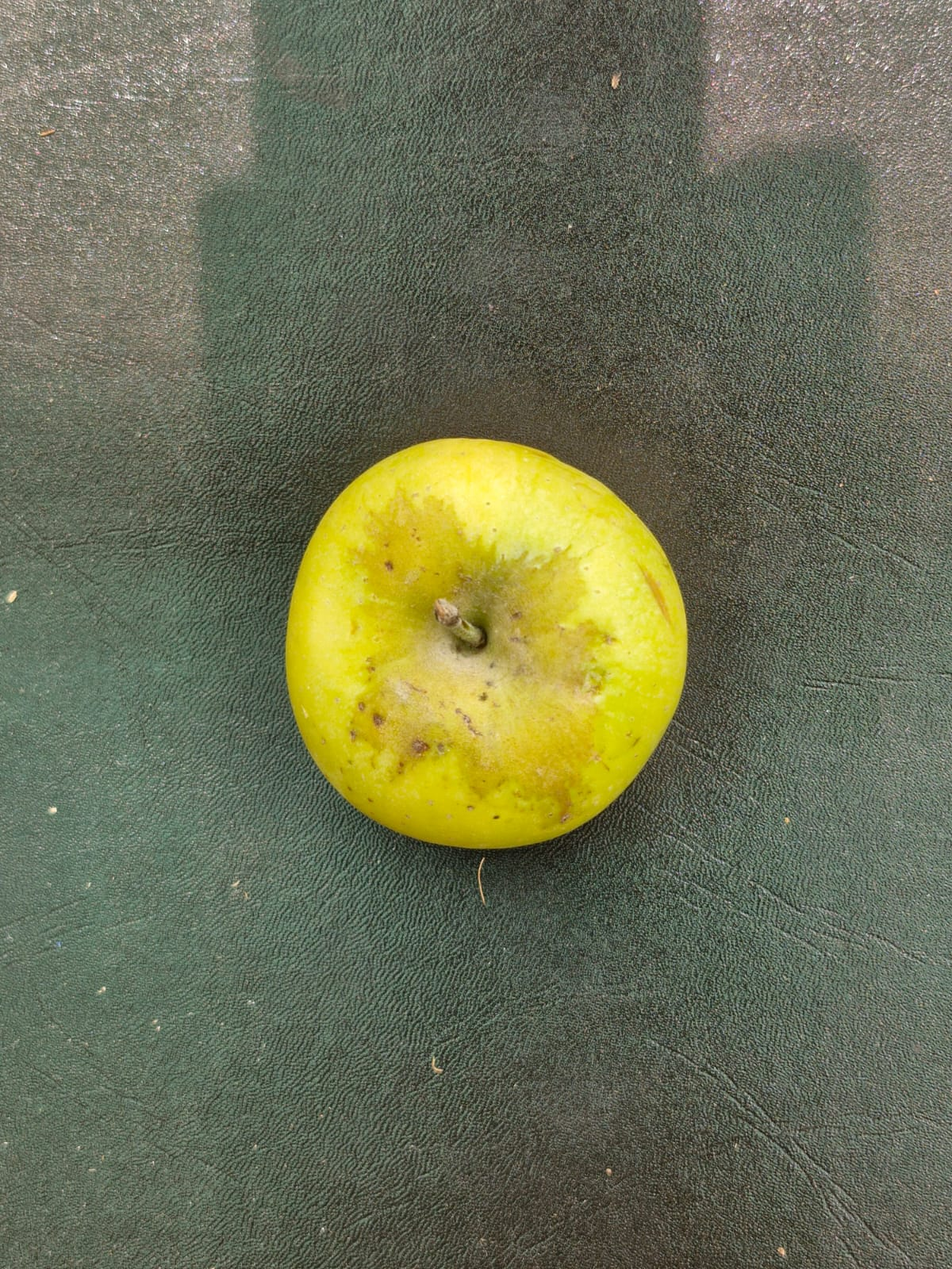apple: (135, 188, 951, 1123)
